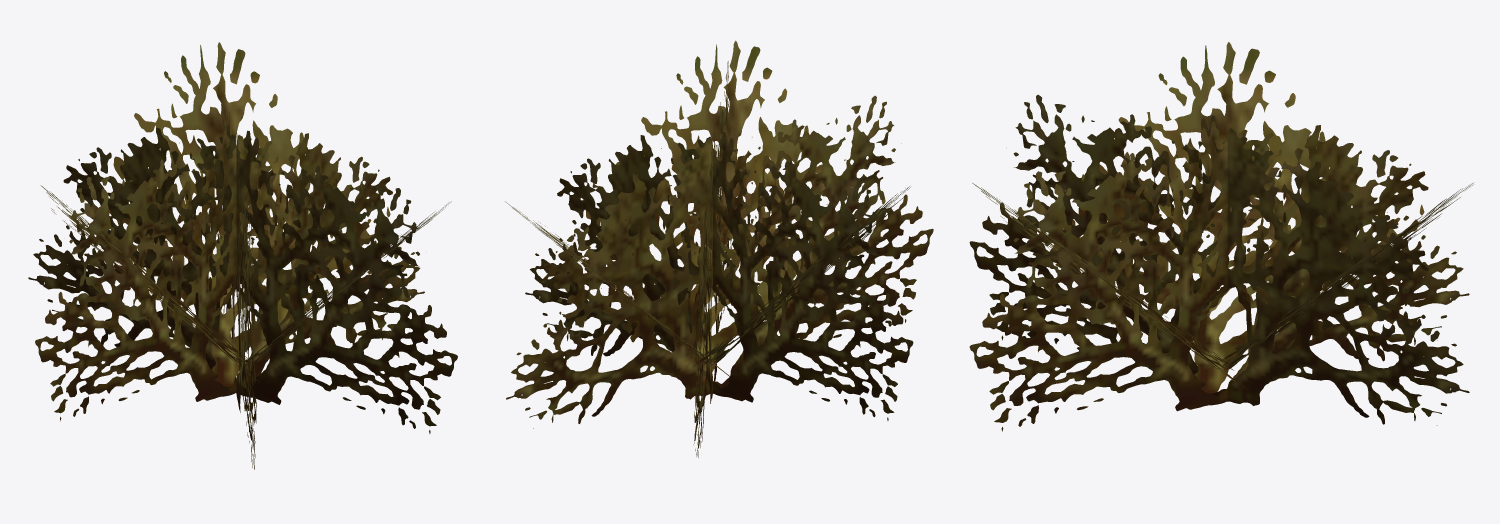
File: M2_Shrub2.glb
3 renders of one model, left to right at view 1: azimuth 30°, elevation 25°; view 2: azimuth 150°, elevation 25°; view 3: azimuth 270°, elevation 25°, orthographic. The views are drawn at different scales.
Visible parts, largest first — view 1: M2_SHRUB2; view 2: M2_SHRUB2; view 3: M2_SHRUB2.
Boxes of the visible parts, x1,y1,x2,y2 form: M2_SHRUB2: (28, 42, 457, 469); M2_SHRUB2: (505, 40, 933, 457); M2_SHRUB2: (969, 42, 1473, 431).
Size of the model in its own units: 1.4 by 0.894 by 1.48.
1 material, 1 textured.
